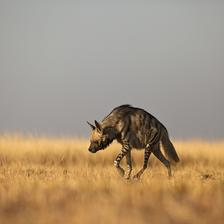hyena: (85, 104, 179, 180)
